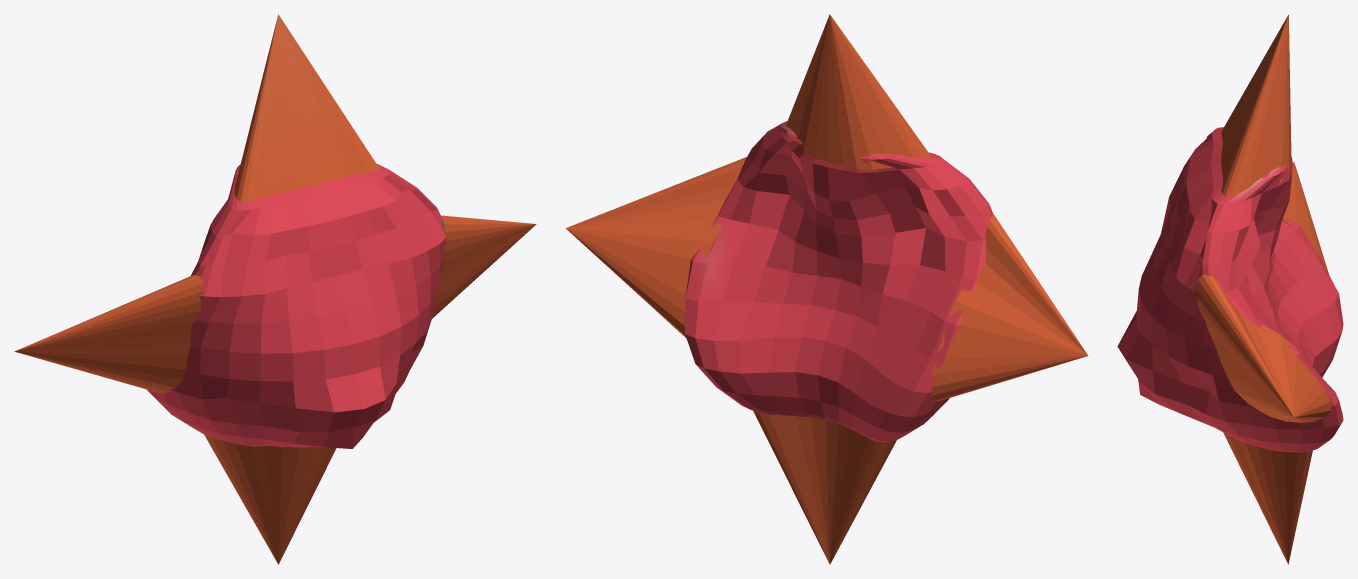
File: SolRock.fbx
3 views of the same model, side by side, from view 1: azimuth 30°, elevation 25°; view 2: azimuth 150°, elevation 25°; view 3: azimuth 270°, elevation 25° (orthographic).
Visible parts, largest first — view 1: Sphere; view 2: Sphere; view 3: Sphere.
Part boxes in pixels (box(x1,y1,x2,y2)): Sphere: box(14, 14, 536, 564); Sphere: box(565, 14, 1088, 564); Sphere: box(1117, 15, 1343, 564).
Size of the model in its own units: 3.67 by 3.7 by 1.38.
